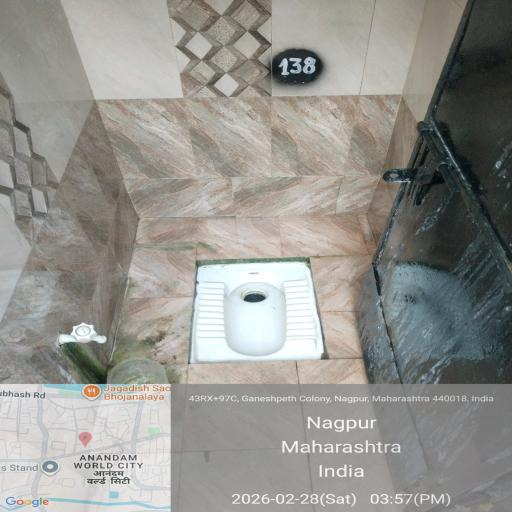clean_floor: (0, 0, 380, 257)
clean_indian: (195, 263, 324, 362)
partial_dirty_floor: (361, 152, 512, 382), (33, 273, 176, 379), (178, 363, 358, 384)
